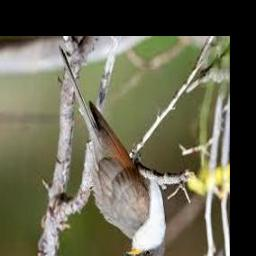Cuckoo: (59, 45, 168, 256)
